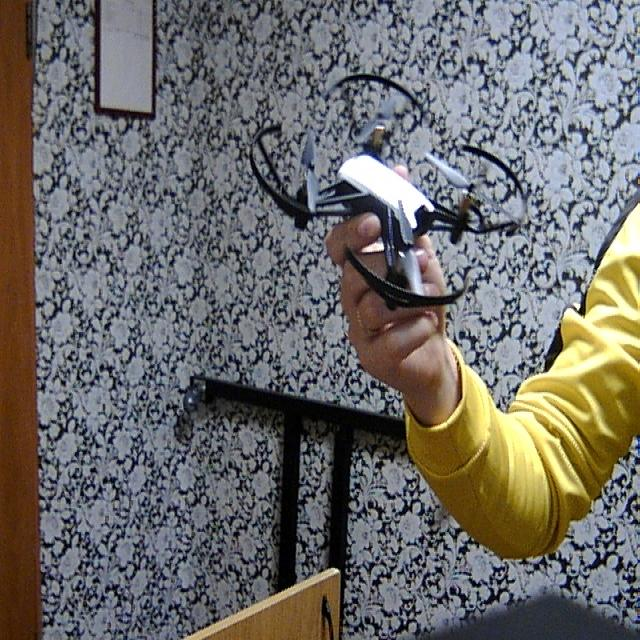drone: (239, 51, 534, 328)
